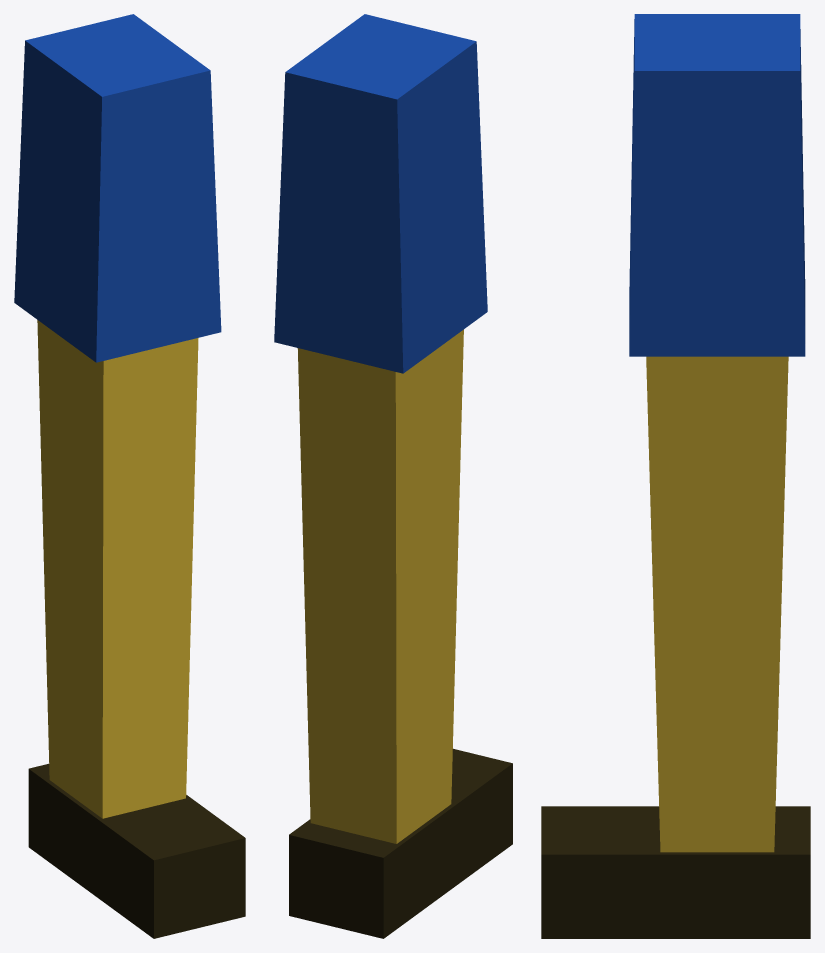
The model's file is leg_k04.glb.
3 views of the same model, side by side, from view 1: azimuth 30°, elevation 25°; view 2: azimuth 150°, elevation 25°; view 3: azimuth 270°, elevation 25° (orthographic). The views are drawn at different scales.
Parts seen in each view (by area): view 1: leg_kit; view 2: leg_kit; view 3: leg_kit.
Part boxes in pixels (x1,y1,x2,y2): leg_kit: (14, 14, 245, 938); leg_kit: (274, 14, 512, 938); leg_kit: (541, 14, 810, 938).
Bounding box in the file's own units: 0.15 × 0.93 × 0.26.
